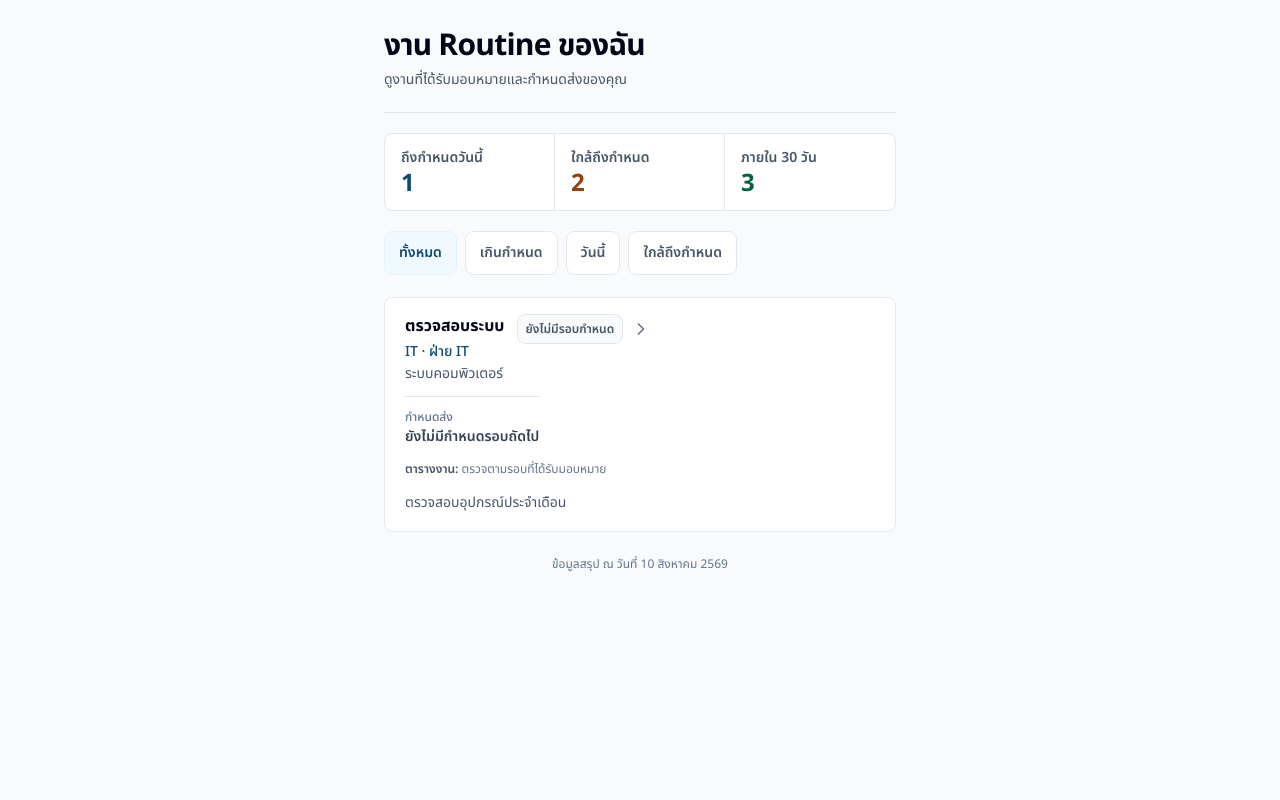
Test: LiffRoutineApp › keeps the read-only Routine experience readable without mutation controls or requests
Expected: the heading "ตรวจสอบระบบ" is shown, x1=405 y1=314 x2=504 y2=338
Click the button with aria-label "เปิดรายละเอียดงาน ตรวจสอบระบบ". click: {"x": 455, "y": 326}
box: x1=385 y1=298 x2=895 y2=531
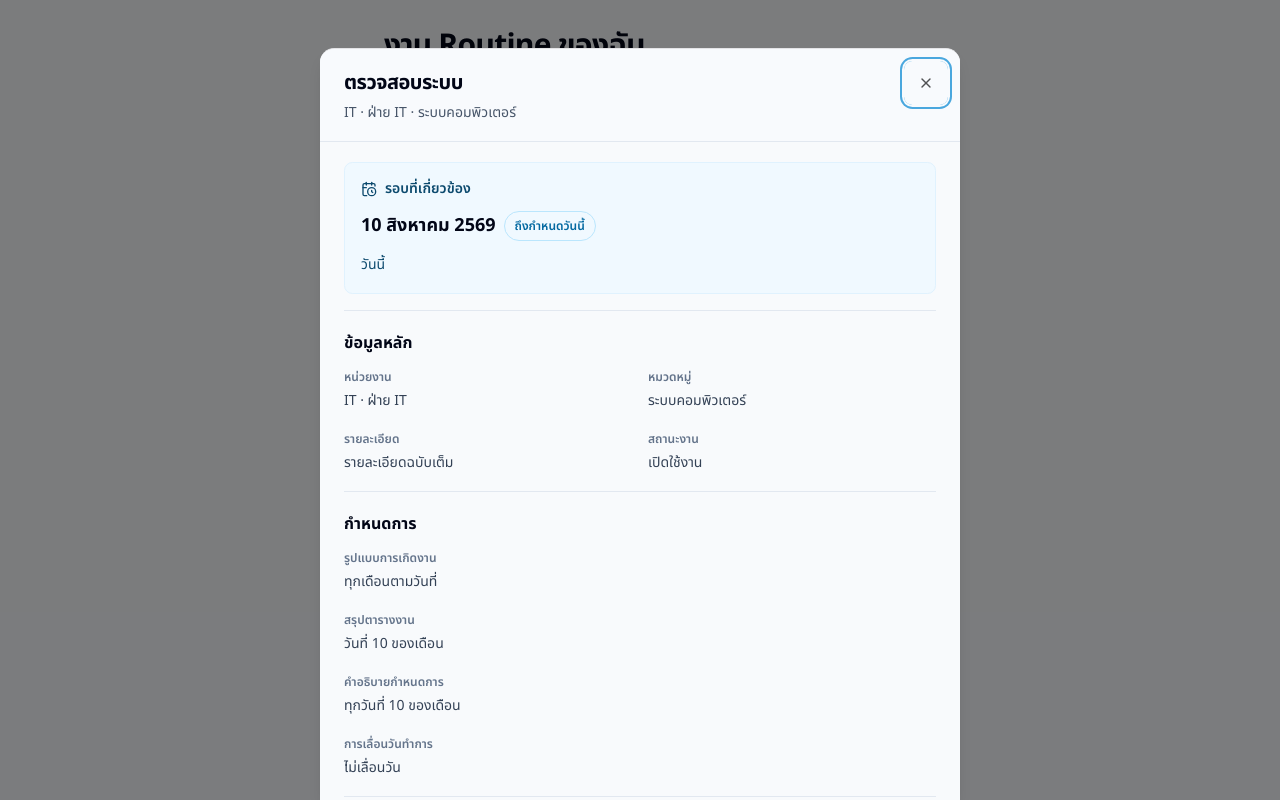
Expected: the heading "ตรวจสอบระบบ" is shown, x1=344 y1=68 x2=463 y2=98
